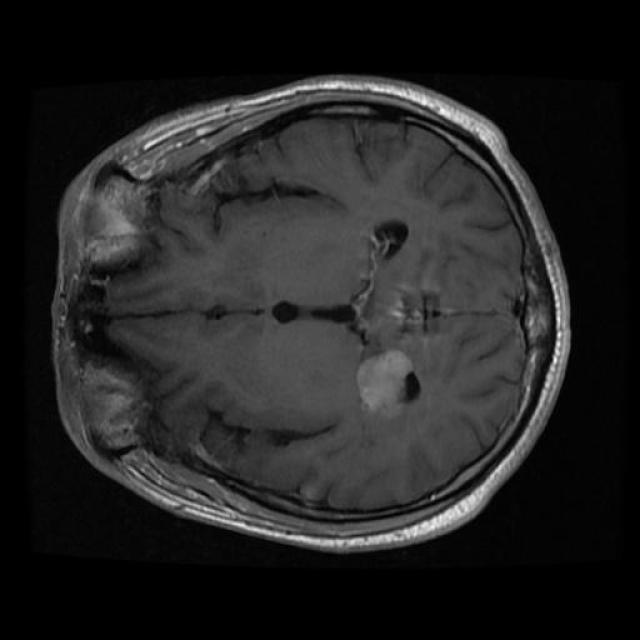Meningioma: (357, 350, 419, 411)
